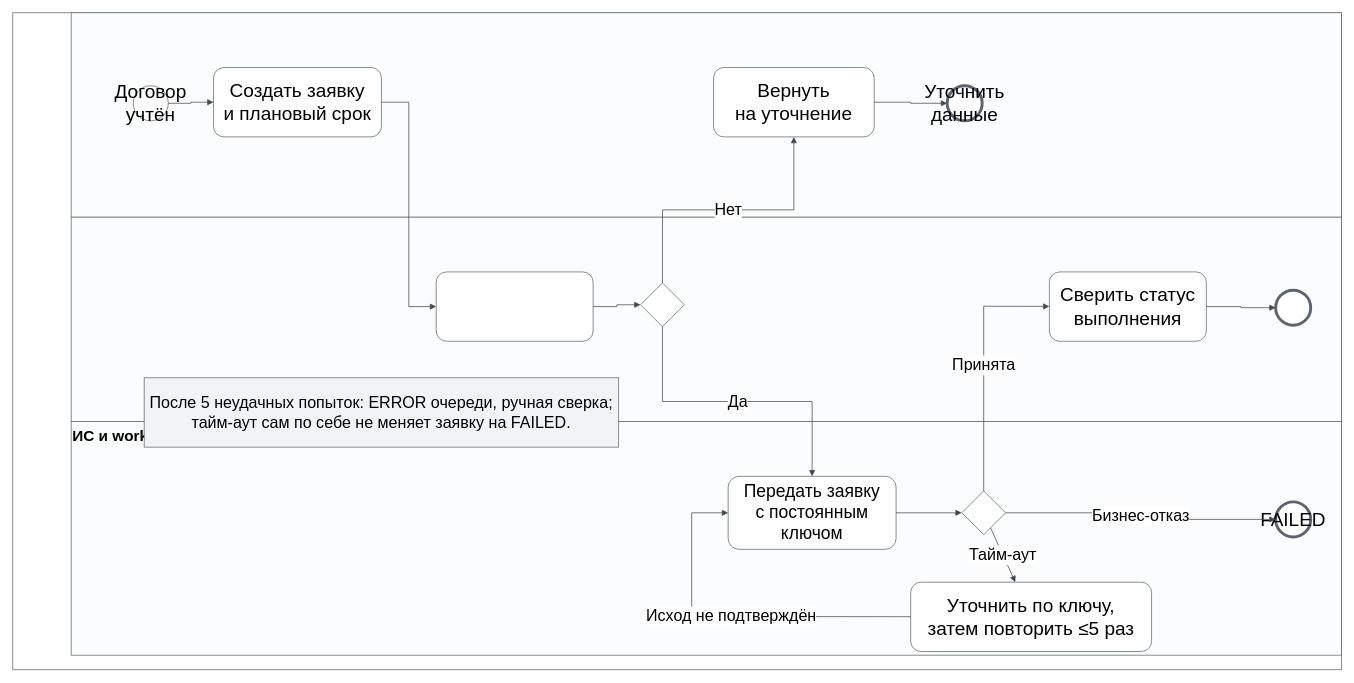
The diagram is 1354 pixels wide and 683 high, and some of its shapes have lost their labels. Each missing label, with the box of its shape:
DONE / WON: (1274, 288, 1312, 326)
Данные верны?: (640, 282, 684, 327)
Менеджер: (70, 12, 1341, 217)
Проверить данные и основание: (435, 271, 593, 341)
Результат?: (961, 490, 1006, 535)
Технический специалист: (70, 216, 1341, 422)
